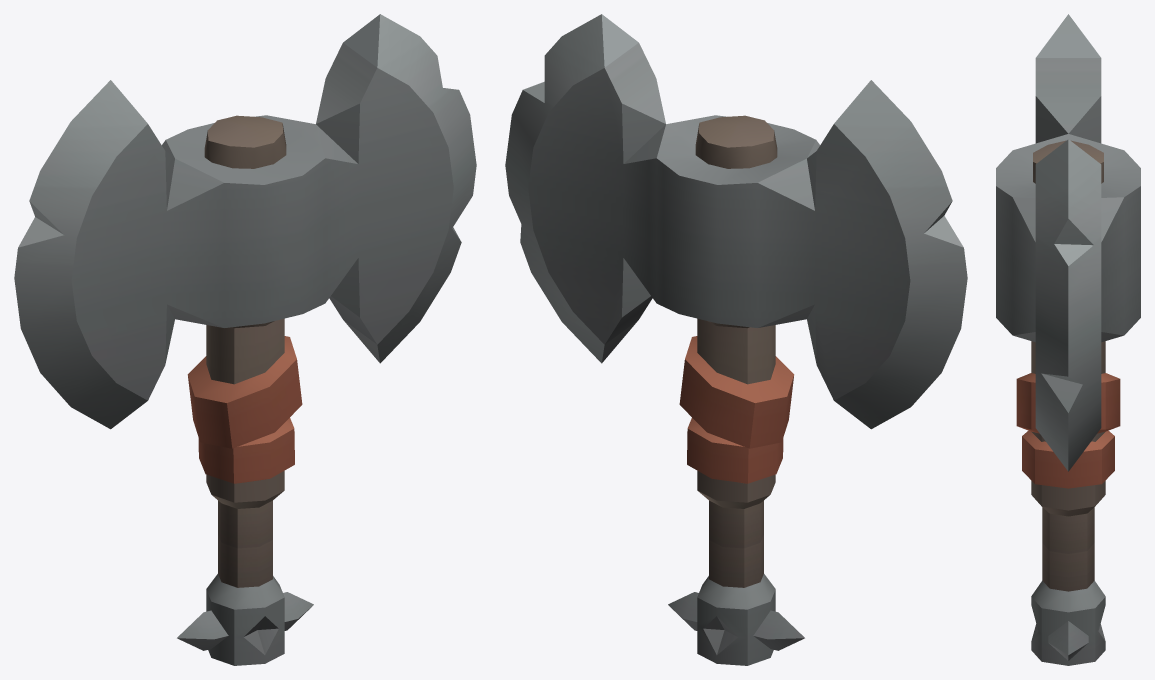
File: kaykit-skeleton-axe.glb
3 views of the same model, side by side, from view 1: azimuth 30°, elevation 25°; view 2: azimuth 150°, elevation 25°; view 3: azimuth 270°, elevation 25° (orthographic). The views are drawn at different scales.
Parts seen in each view (by area): view 1: Skeleton_Axe; view 2: Skeleton_Axe; view 3: Skeleton_Axe.
Part boxes in pixels (bbox=[...]): Skeleton_Axe: bbox=[14, 14, 476, 665]; Skeleton_Axe: bbox=[505, 14, 967, 665]; Skeleton_Axe: bbox=[996, 14, 1140, 665].
Size of the model in its own units: 0.9885 by 1.25 by 0.2818.
1 material, 1 textured.
